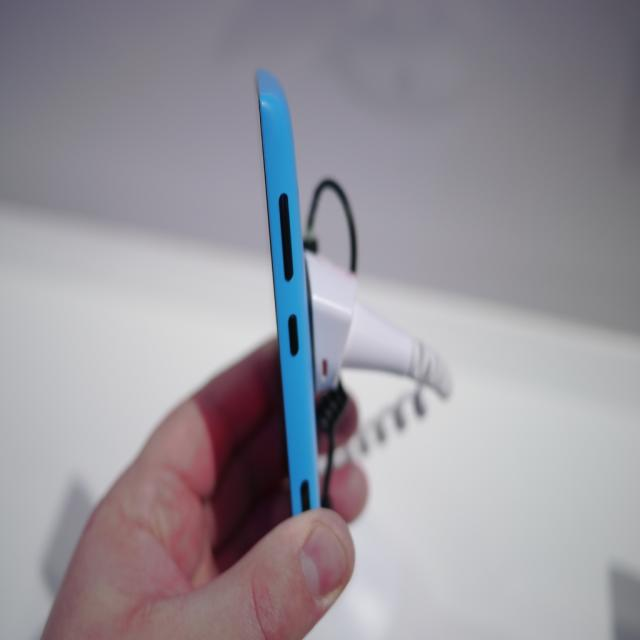Mobile-phone: (256, 61, 322, 521)
